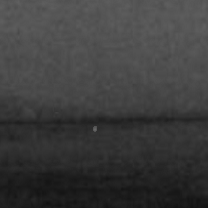Target: (92, 125, 98, 132)
